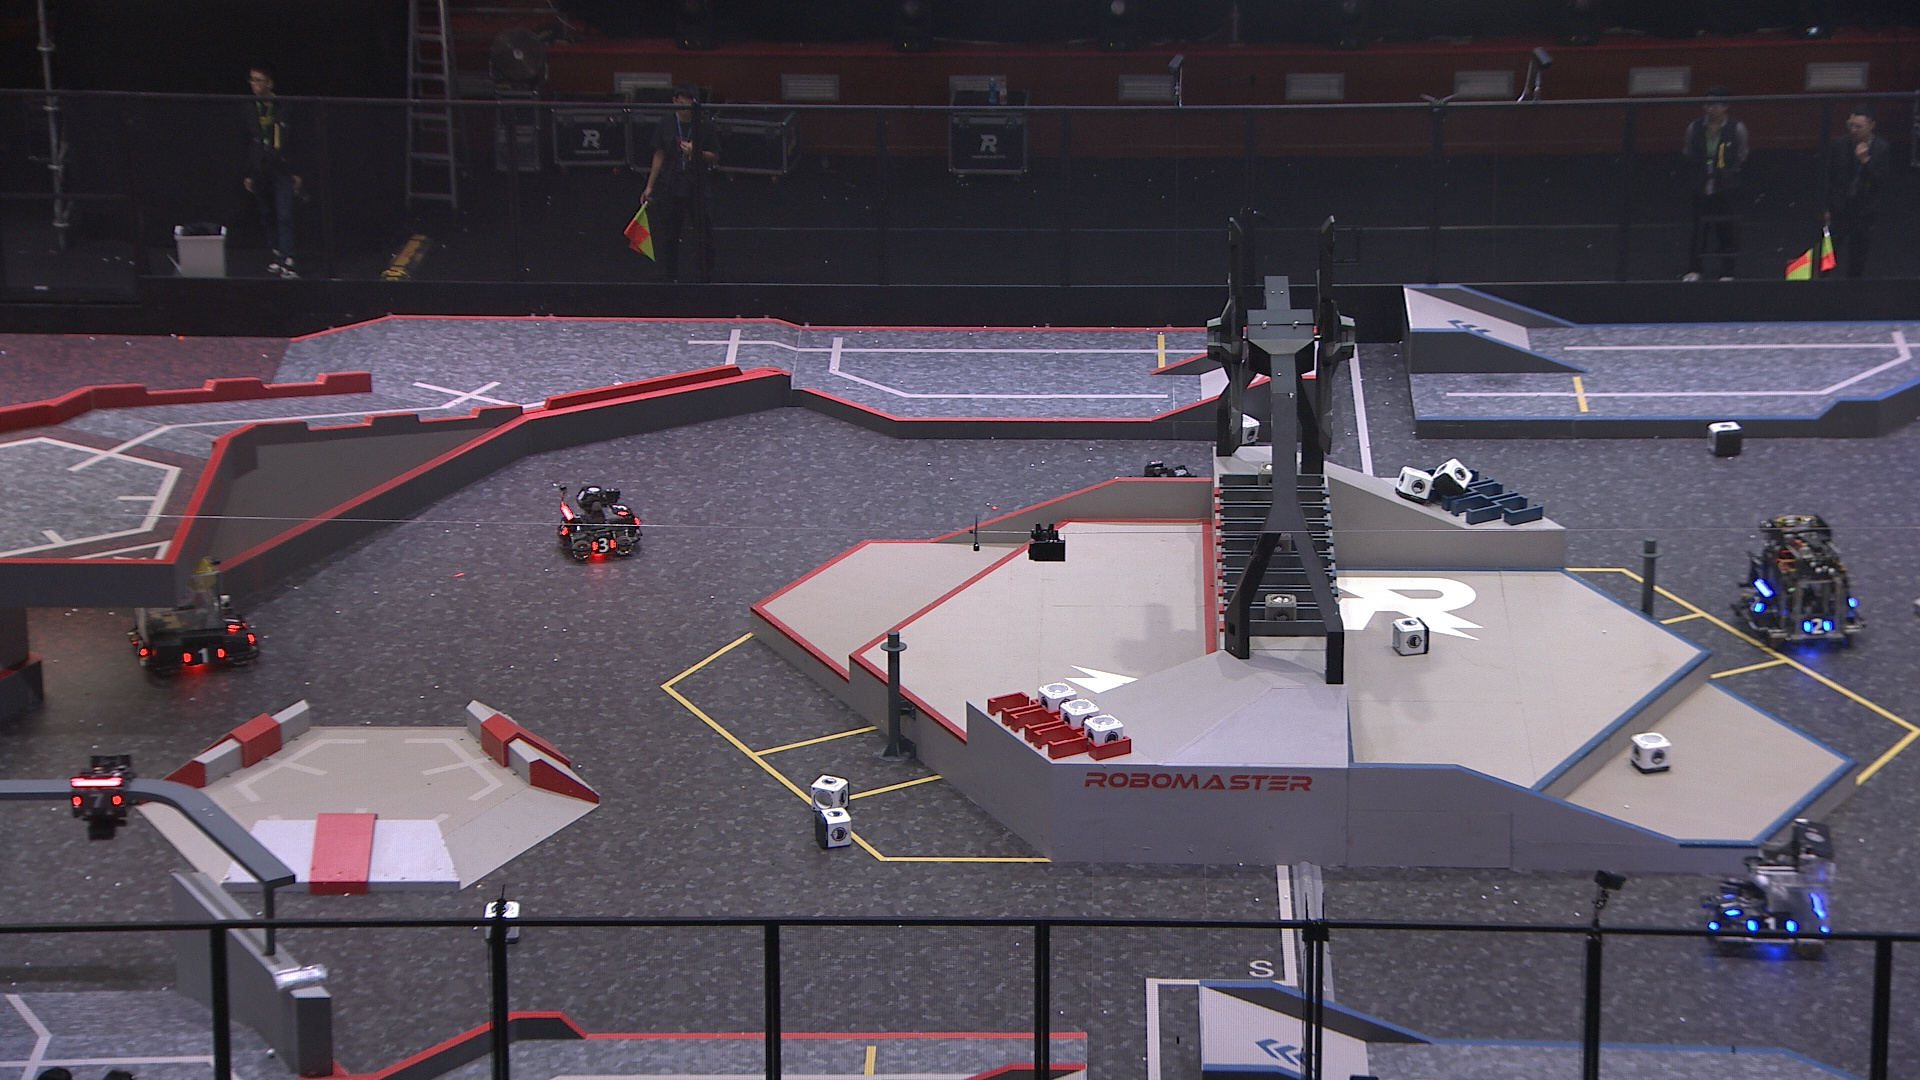armor: (74, 790, 120, 811), (1750, 913, 1795, 934), (183, 645, 225, 665), (1717, 887, 1742, 918), (1803, 615, 1832, 633), (589, 535, 618, 553), (224, 609, 243, 633), (1746, 593, 1764, 616), (609, 501, 628, 522), (131, 636, 146, 655), (555, 513, 567, 535)
car: (1704, 812, 1844, 957), (1735, 513, 1865, 654), (124, 546, 264, 674), (551, 484, 645, 564), (1133, 458, 1209, 533)
watcher: (71, 756, 140, 841)
